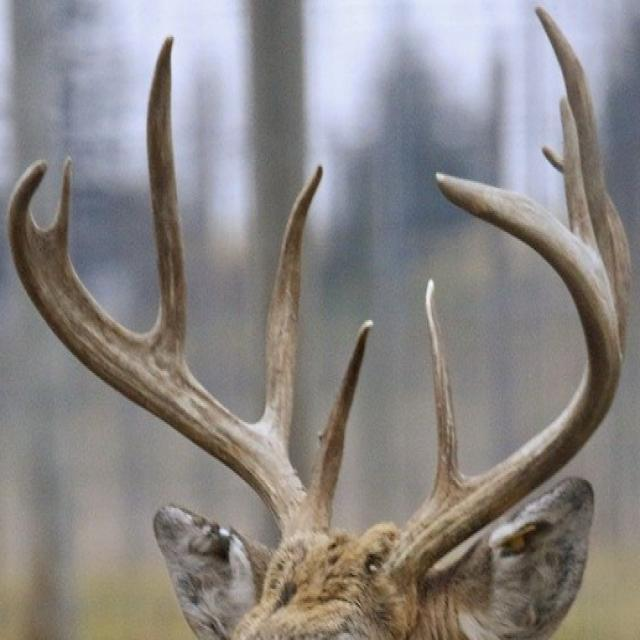L-F: (383, 171, 629, 602)
L-G1: (424, 273, 467, 498)
L-G3: (560, 91, 600, 262)
R-F: (7, 159, 330, 548)
R-G1: (307, 315, 375, 524)
R-G2: (254, 162, 326, 460)
R-G3: (144, 35, 188, 369)
R-G4: (42, 150, 74, 256)
